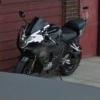Motorcycle: (12, 5, 93, 81)
